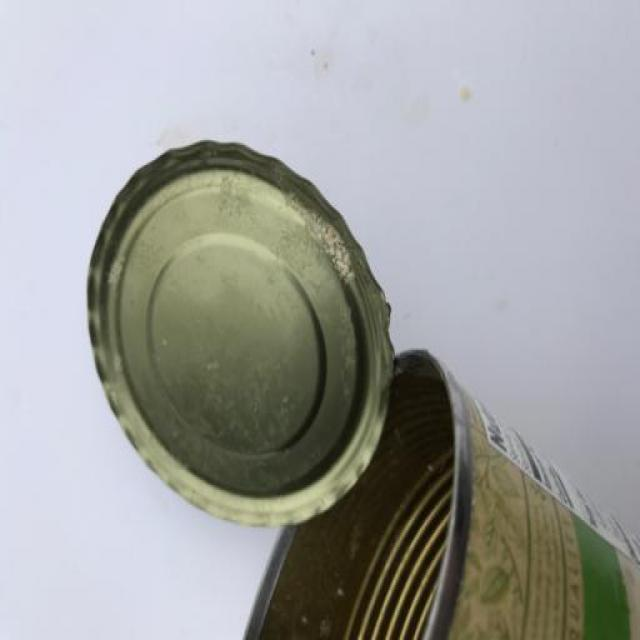metel: (81, 96, 640, 640)
